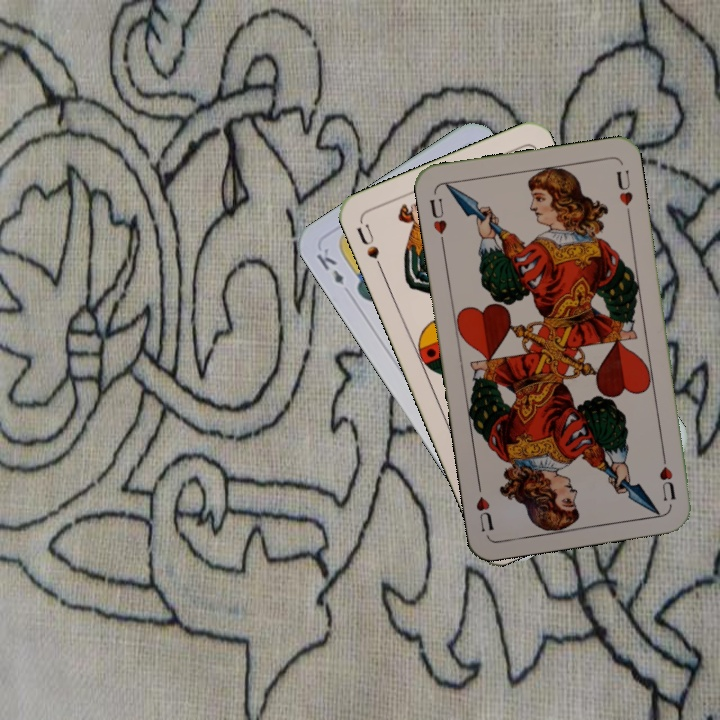EK: (312, 244, 347, 288)
HU: (425, 193, 450, 248), (655, 448, 679, 504)
SU: (353, 217, 386, 274)
